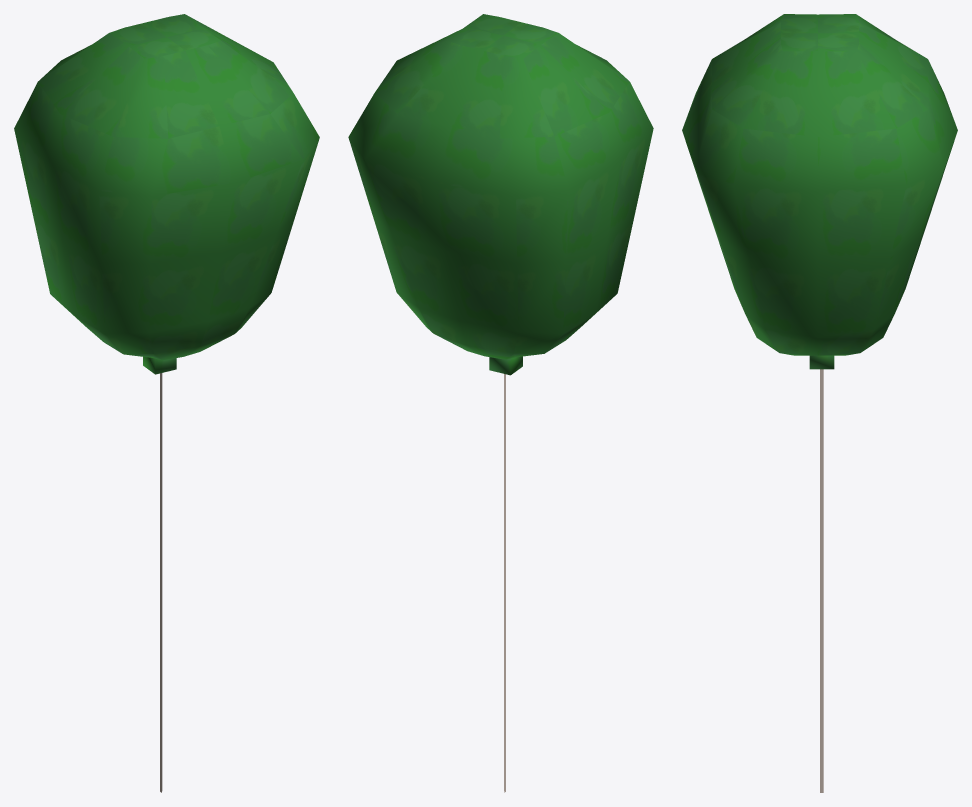
File: Balloon_green01.fbx
3 renders of one model, left to right at view 1: azimuth 30°, elevation 25°; view 2: azimuth 150°, elevation 25°; view 3: azimuth 270°, elevation 25°, orthographic.
Parts seen in each view (by area): view 1: Balloon_green01; view 2: Balloon_green01; view 3: Balloon_green01.
Part boxes in pixels (x1,y1,x2,y2): Balloon_green01: [14, 14, 319, 792]; Balloon_green01: [348, 14, 653, 792]; Balloon_green01: [682, 14, 957, 792].
Bounding box in the file's own units: 0.6351 × 1.91 × 0.6273.
Materials: 2 (1 with a texture image).
